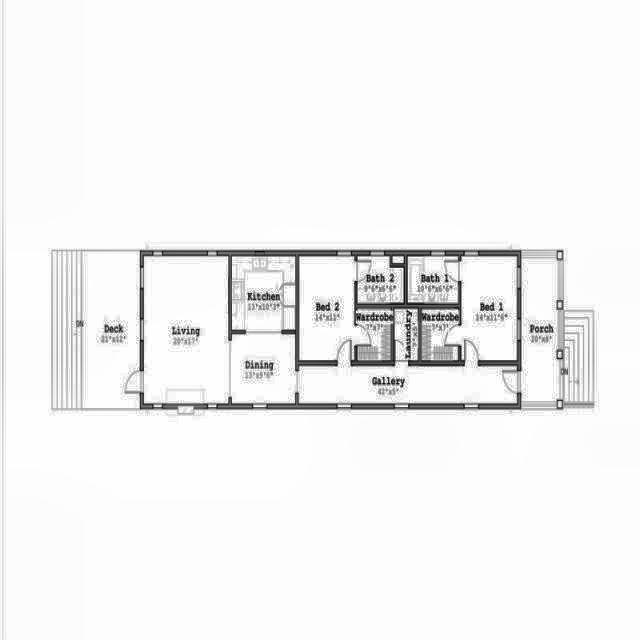room: (145, 257, 228, 404), (299, 366, 516, 403), (299, 256, 353, 361), (463, 256, 517, 359), (522, 257, 557, 402), (232, 257, 295, 329), (233, 335, 294, 404), (408, 257, 458, 302), (358, 255, 404, 303), (422, 309, 459, 361), (357, 310, 391, 360), (395, 309, 418, 360), (393, 257, 404, 264)
